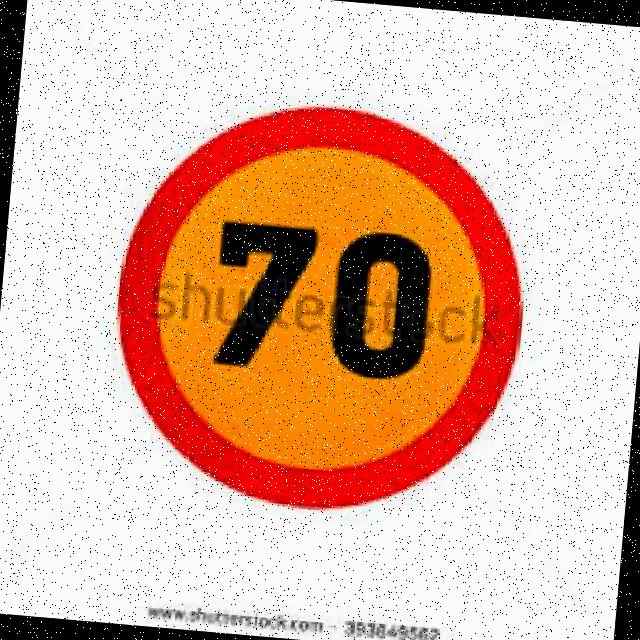Ograniczenie predkosci do 70: (113, 89, 538, 526)
